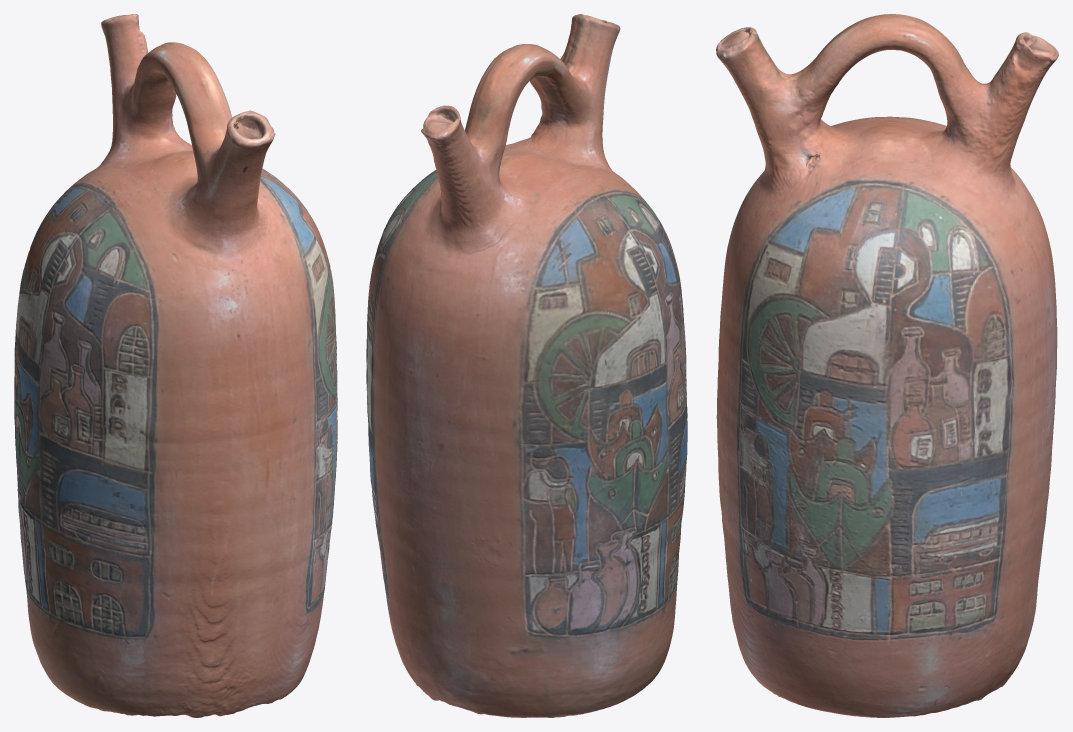
Rendered from modelo.glb.
The picture shows the model from 3 angles, left to right: view 1: azimuth 30°, elevation 25°; view 2: azimuth 150°, elevation 25°; view 3: azimuth 270°, elevation 25°; orthographic projection. The views are drawn at different scales.
Visible parts, largest first — view 1: CAL0607; view 2: CAL0607; view 3: CAL0607.
Boxes of the visible parts, x1,y1,x2,y2 form: CAL0607: [14, 14, 337, 717]; CAL0607: [366, 14, 687, 717]; CAL0607: [716, 14, 1058, 717].
Size of the model in its own units: 191 by 407 by 193.
1 material, 1 textured.
